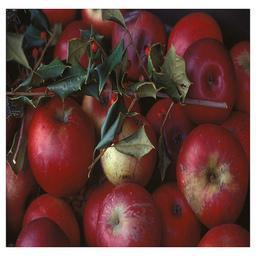apple: (175, 122, 249, 226), (26, 102, 94, 201), (174, 37, 239, 122), (86, 184, 166, 247), (98, 114, 163, 187), (112, 12, 167, 76), (150, 181, 201, 246), (22, 192, 78, 243), (168, 12, 227, 57), (54, 21, 102, 66)
